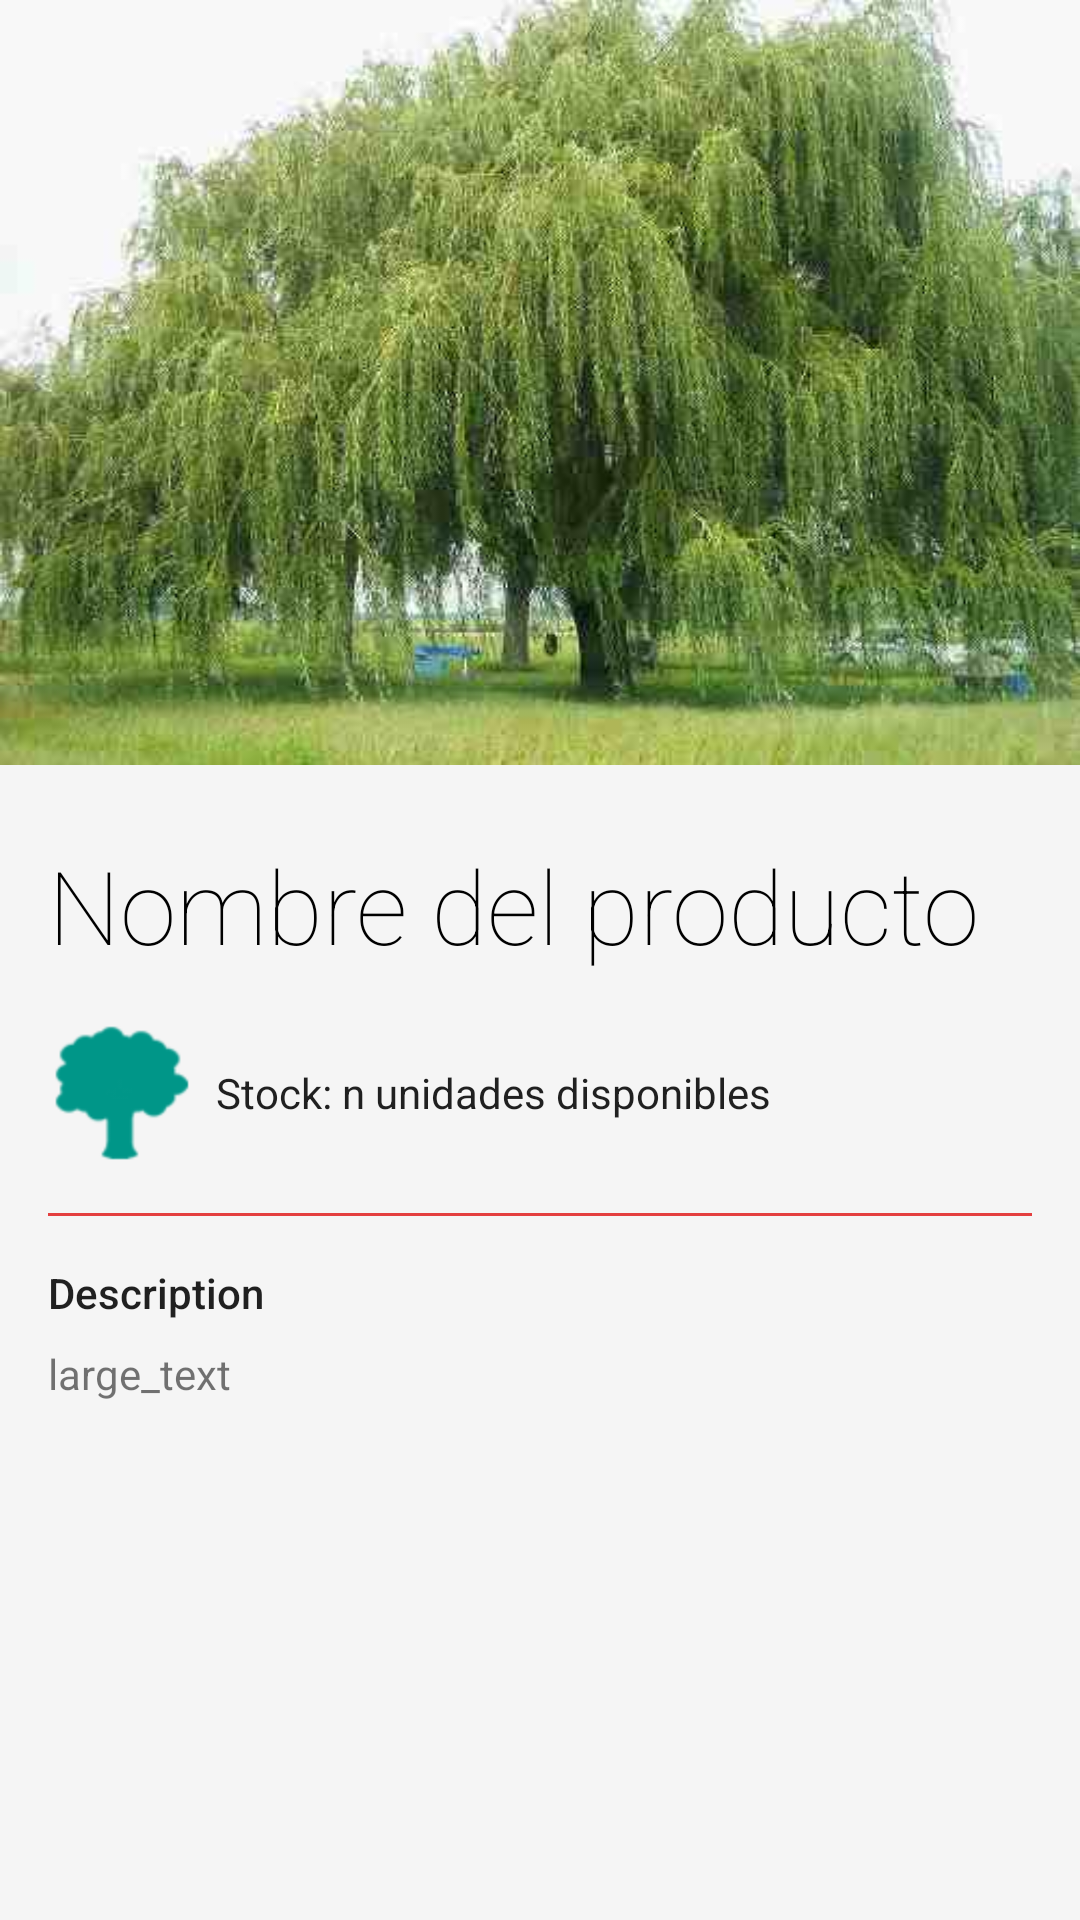

Locate icon controls on the screen. Image size 1080 × 1920, boxes as (x1, y1, x2, y2).
tree womder: (55, 1026, 189, 1160)
